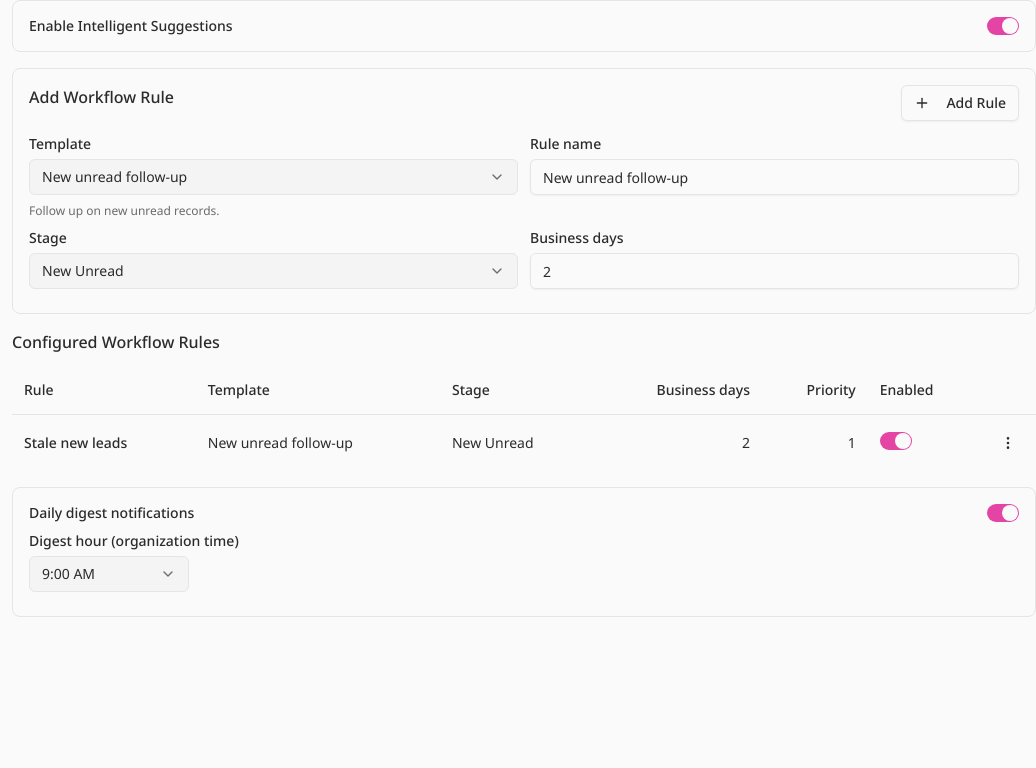
Test case: IntelligentSuggestionsSection › blocks adding a rule that duplicates an existing one
Expected: the cell "Stale new leads" is shown, left=12, top=414, right=196, bottom=471
Click the button "Add Rule" at x=960, y=103, box left=901, top=85, right=1019, bottom=121
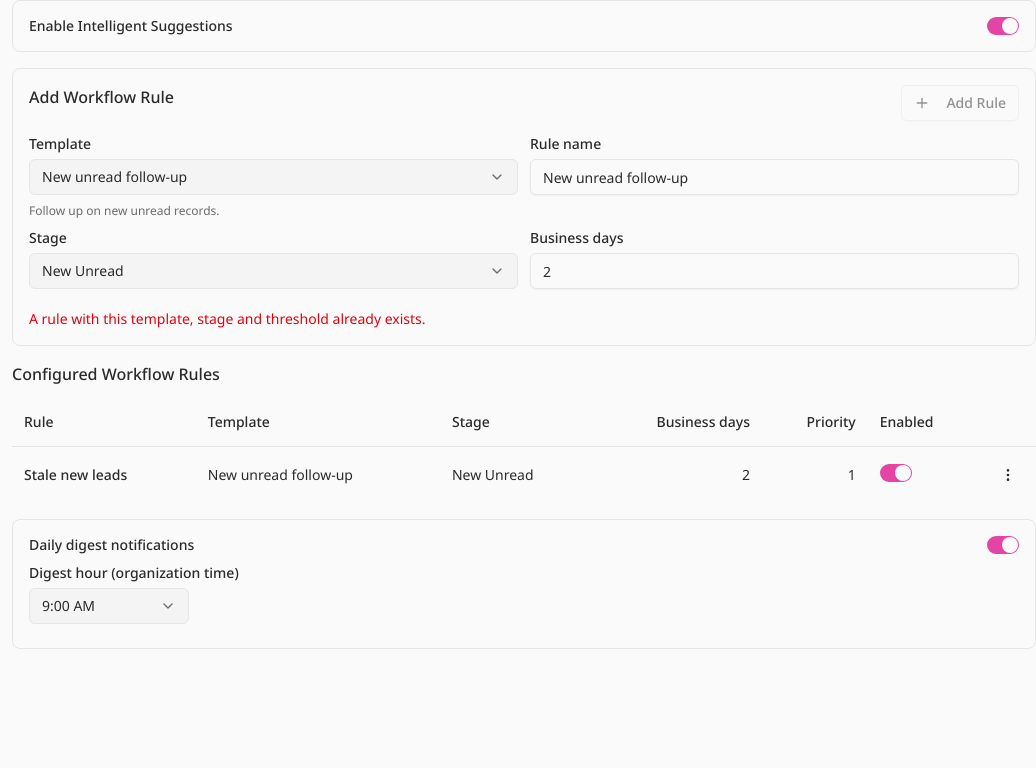
Result: the message reads "A rule with this template, stage and threshold already exists." at left=29, top=309, right=426, bottom=328
Result: the button "Add Rule" is disabled at left=901, top=85, right=1019, bottom=121
Replace the text in the number field labelled "Business days" with "3" at x=774, y=271, box left=530, top=253, right=1019, bottom=289
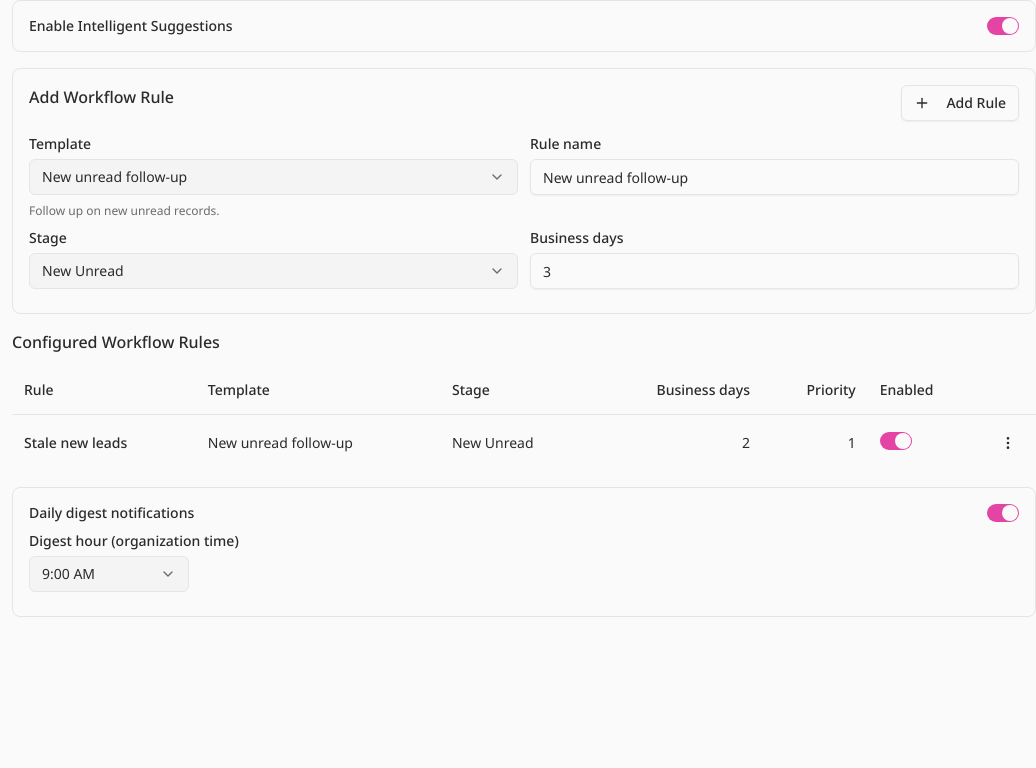
Result: the message "A rule with this template, stage and threshold already exists." is gone
Result: the button "Add Rule" is enabled at left=901, top=85, right=1019, bottom=121
Replace the text in the number field labelled "Business days" with "2" at x=774, y=271, box left=530, top=253, right=1019, bottom=289
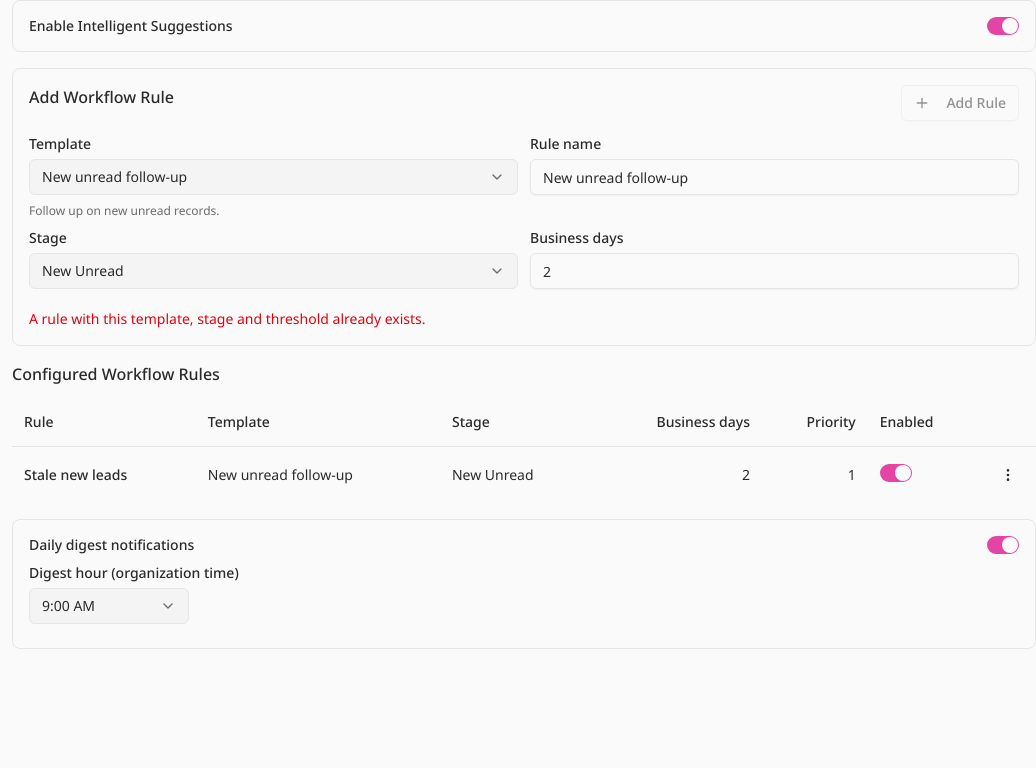
Result: the message reads "A rule with this template, stage and threshold already exists." at left=29, top=309, right=426, bottom=328
